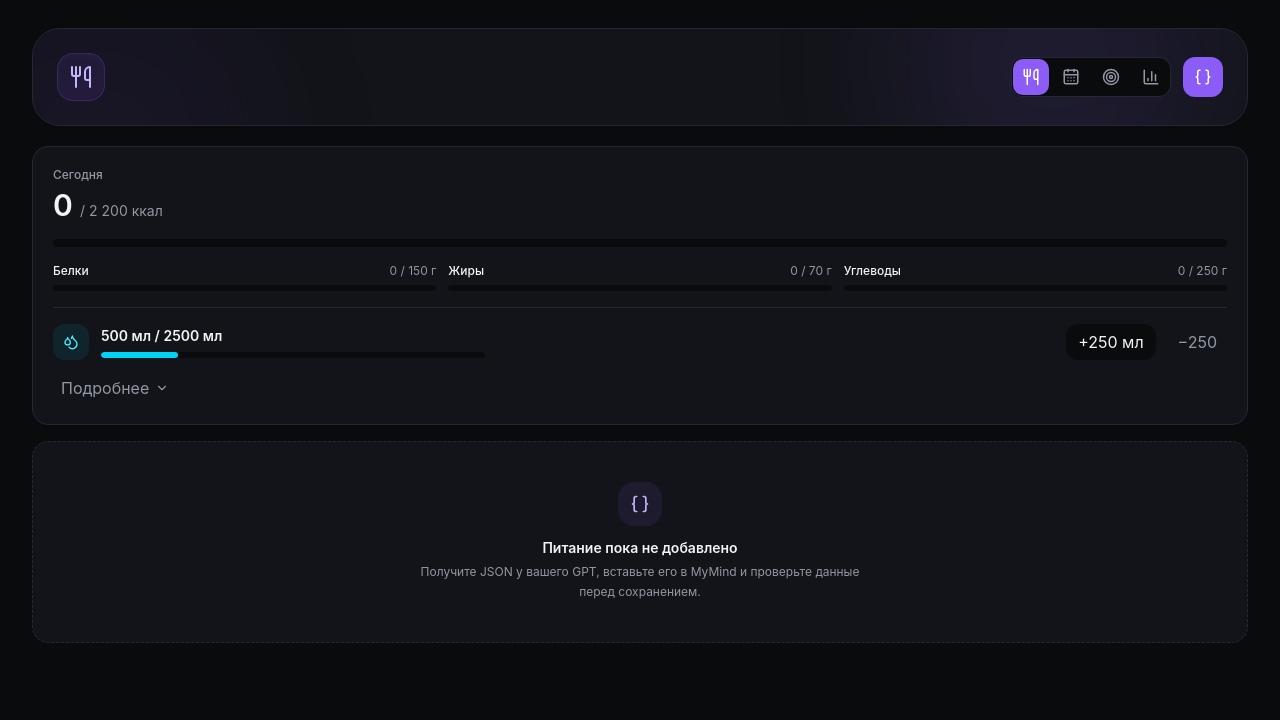
Test: NutritionPage JSON-only flow › keeps water as a direct mechanical action
This screenshot has width=1280, height=720.
Click the button "+250 мл" at point(1111, 342), box x1=1066 y1=324 x2=1156 y2=360
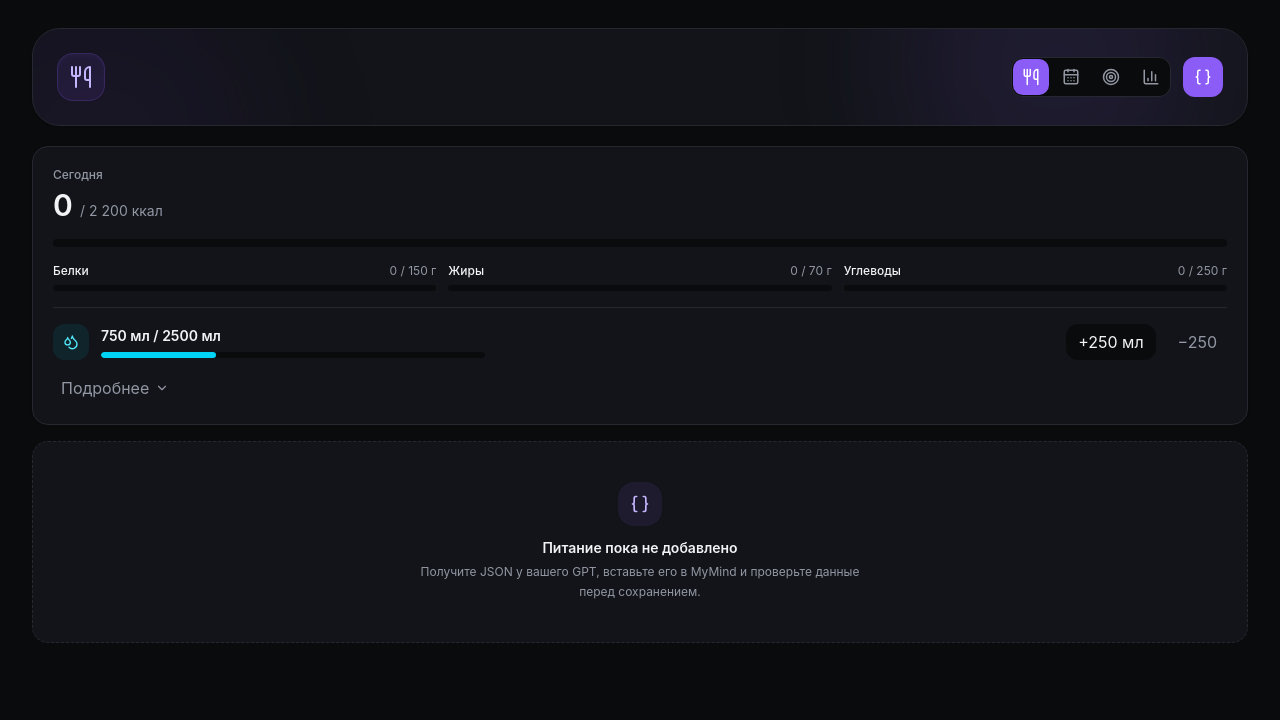
Expected: the text "750 мл / 2500 мл" is shown, x1=101 y1=327 x2=221 y2=344
